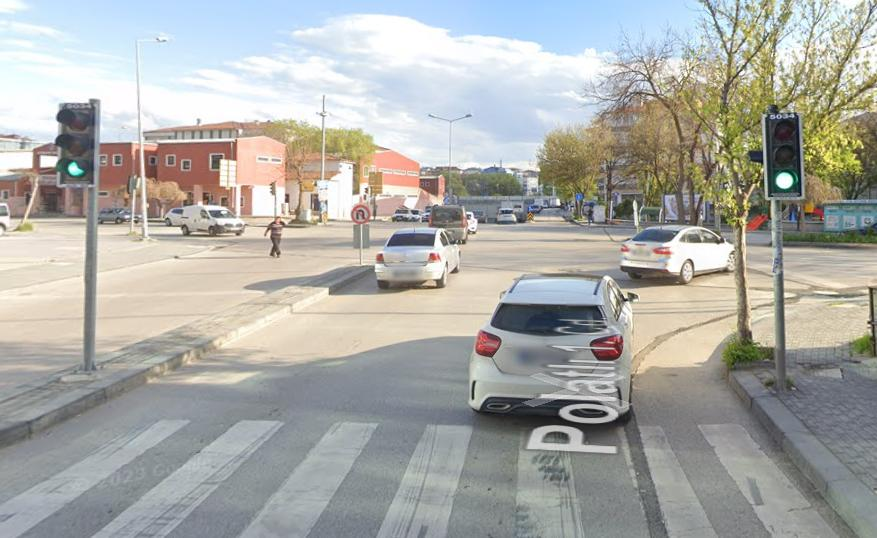greenlight: (765, 116, 803, 196), (57, 105, 93, 181)
